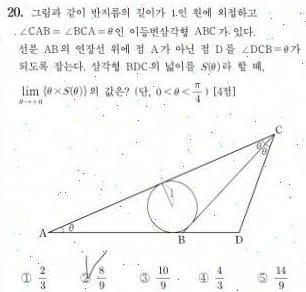choice: (78, 263, 95, 286)
not-choice: (197, 270, 210, 285), (137, 271, 150, 284), (256, 271, 269, 284), (20, 272, 32, 284)
